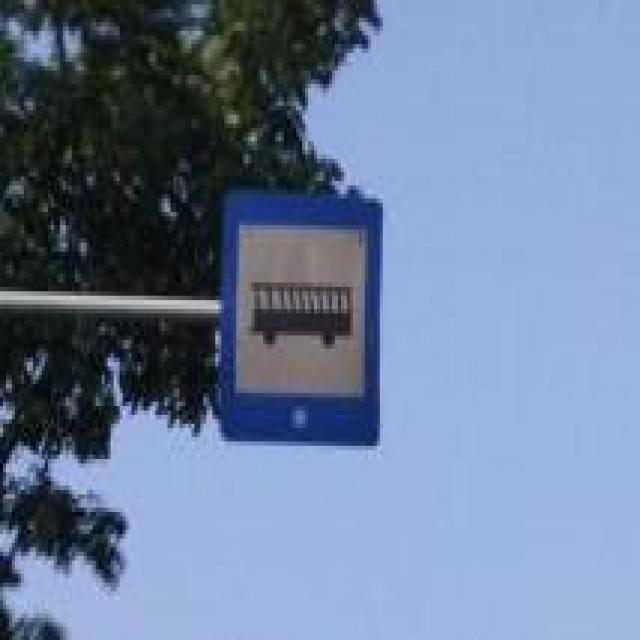traffic sign: (218, 186, 380, 451)
